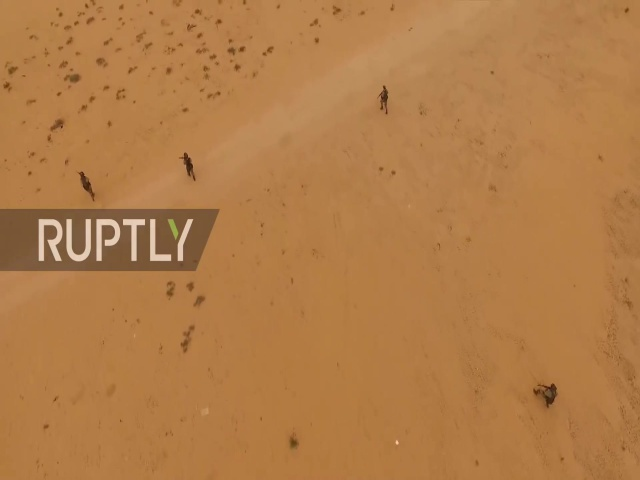person: (530, 380, 560, 416), (75, 170, 98, 203), (178, 152, 200, 183), (376, 84, 390, 118)
